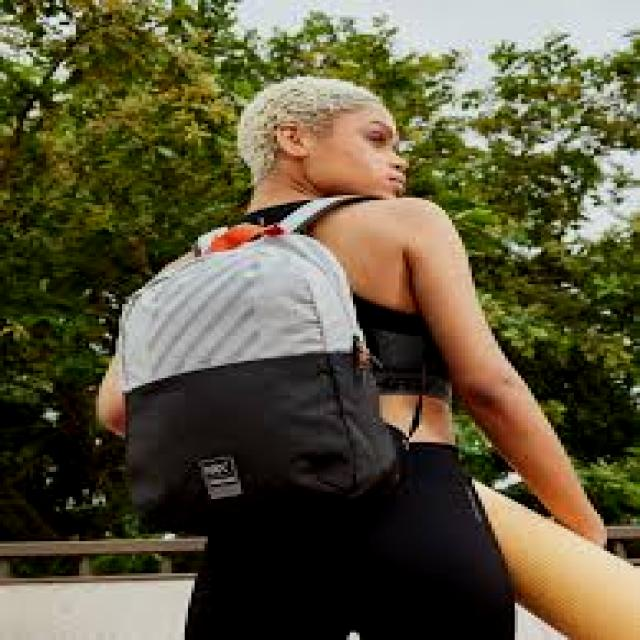backpack: (113, 194, 410, 535)
